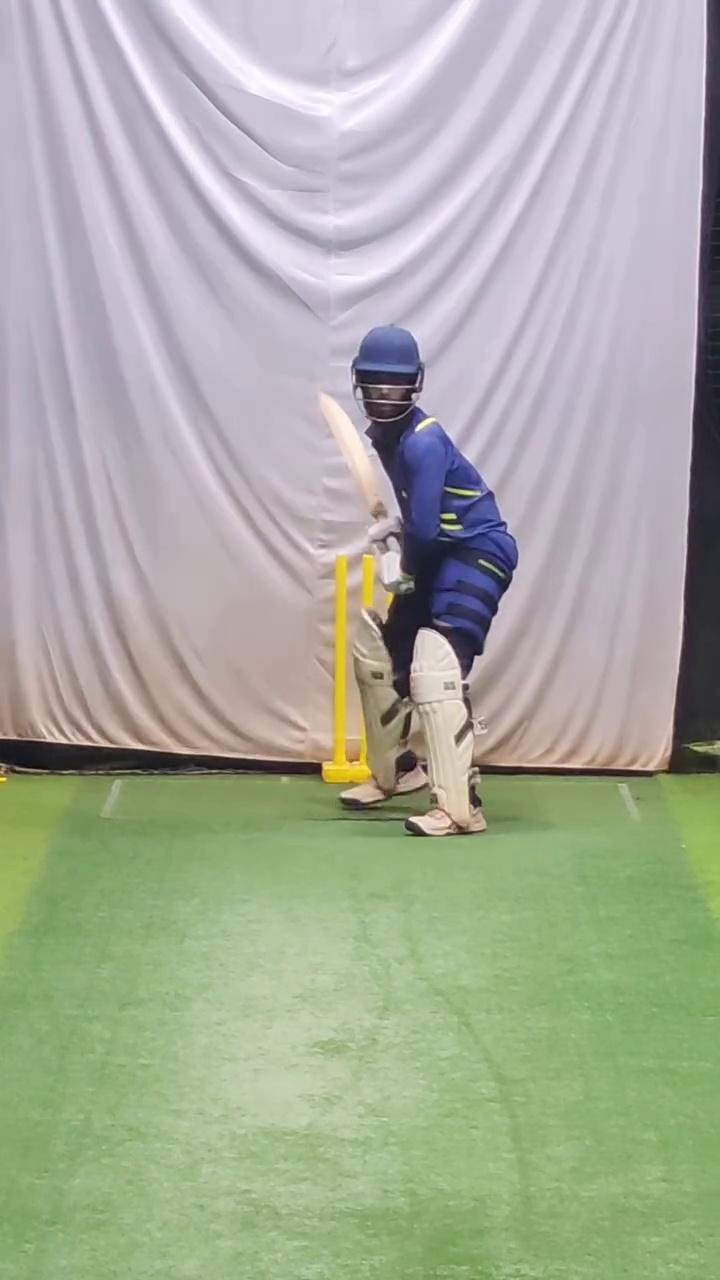bat: (312, 385, 393, 523)
